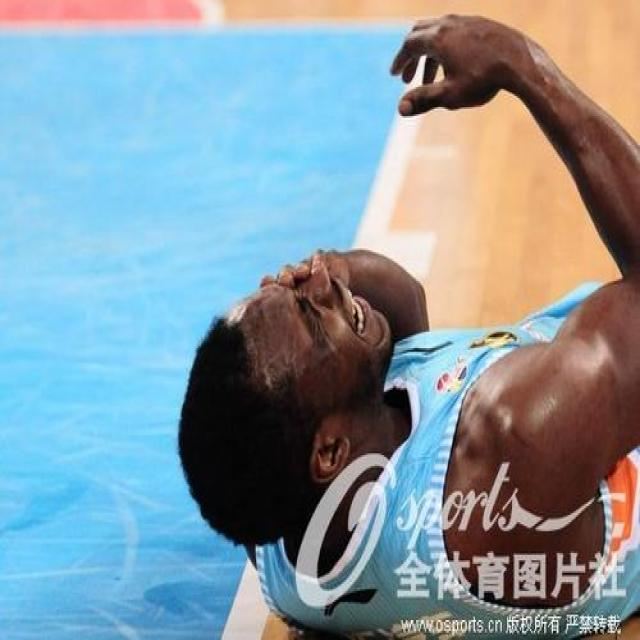down: (161, 16, 631, 636)
